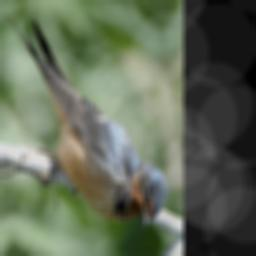Swallow: (2, 0, 171, 255)
